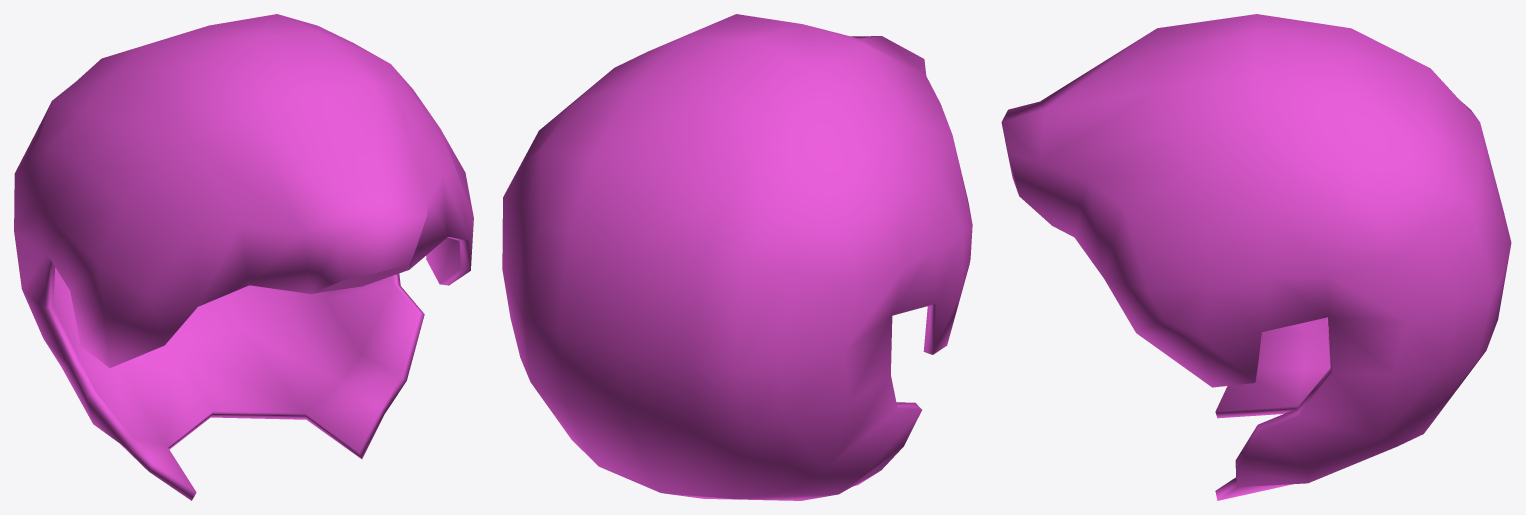
Rendered from character hair 01.fbx.
3 views of the same model, side by side, from view 1: azimuth 30°, elevation 25°; view 2: azimuth 150°, elevation 25°; view 3: azimuth 270°, elevation 25° (orthographic). The views are drawn at different scales.
Parts seen in each view (by area): view 1: hair01; view 2: hair01; view 3: hair01.
Boxes of the visible parts, x1=… form: hair01: x1=14, y1=14, x2=473, y2=500; hair01: x1=502, y1=14, x2=972, y2=500; hair01: x1=1001, y1=14, x2=1511, y2=500.
Size of the model in its own units: 0.4058 by 0.4475 by 0.4845.
